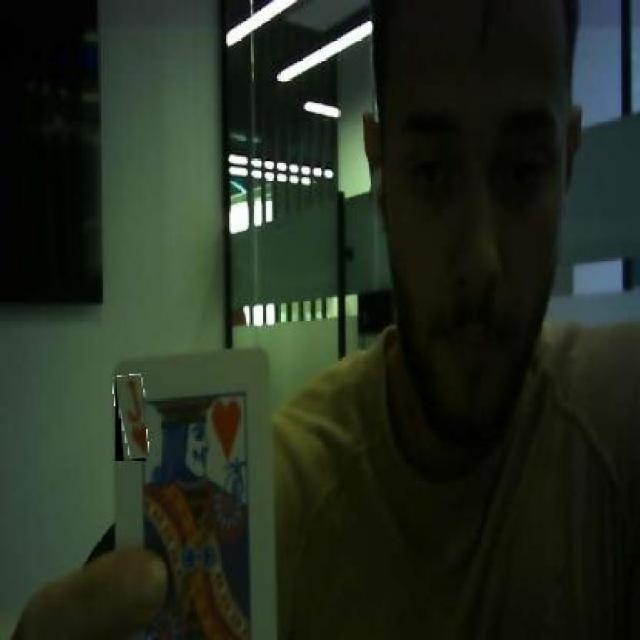JH: (115, 375, 146, 460)
